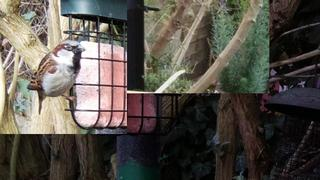sparrow: (26, 40, 87, 115)
